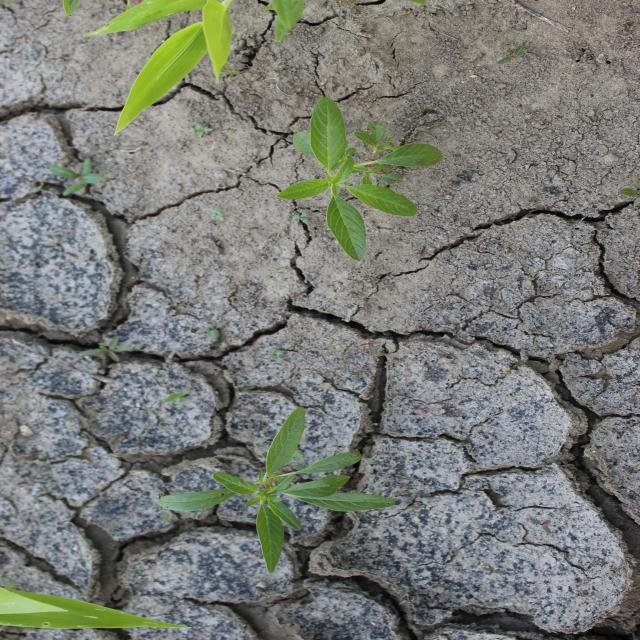Waterhemp: (155, 407, 399, 576), (273, 91, 446, 262)
